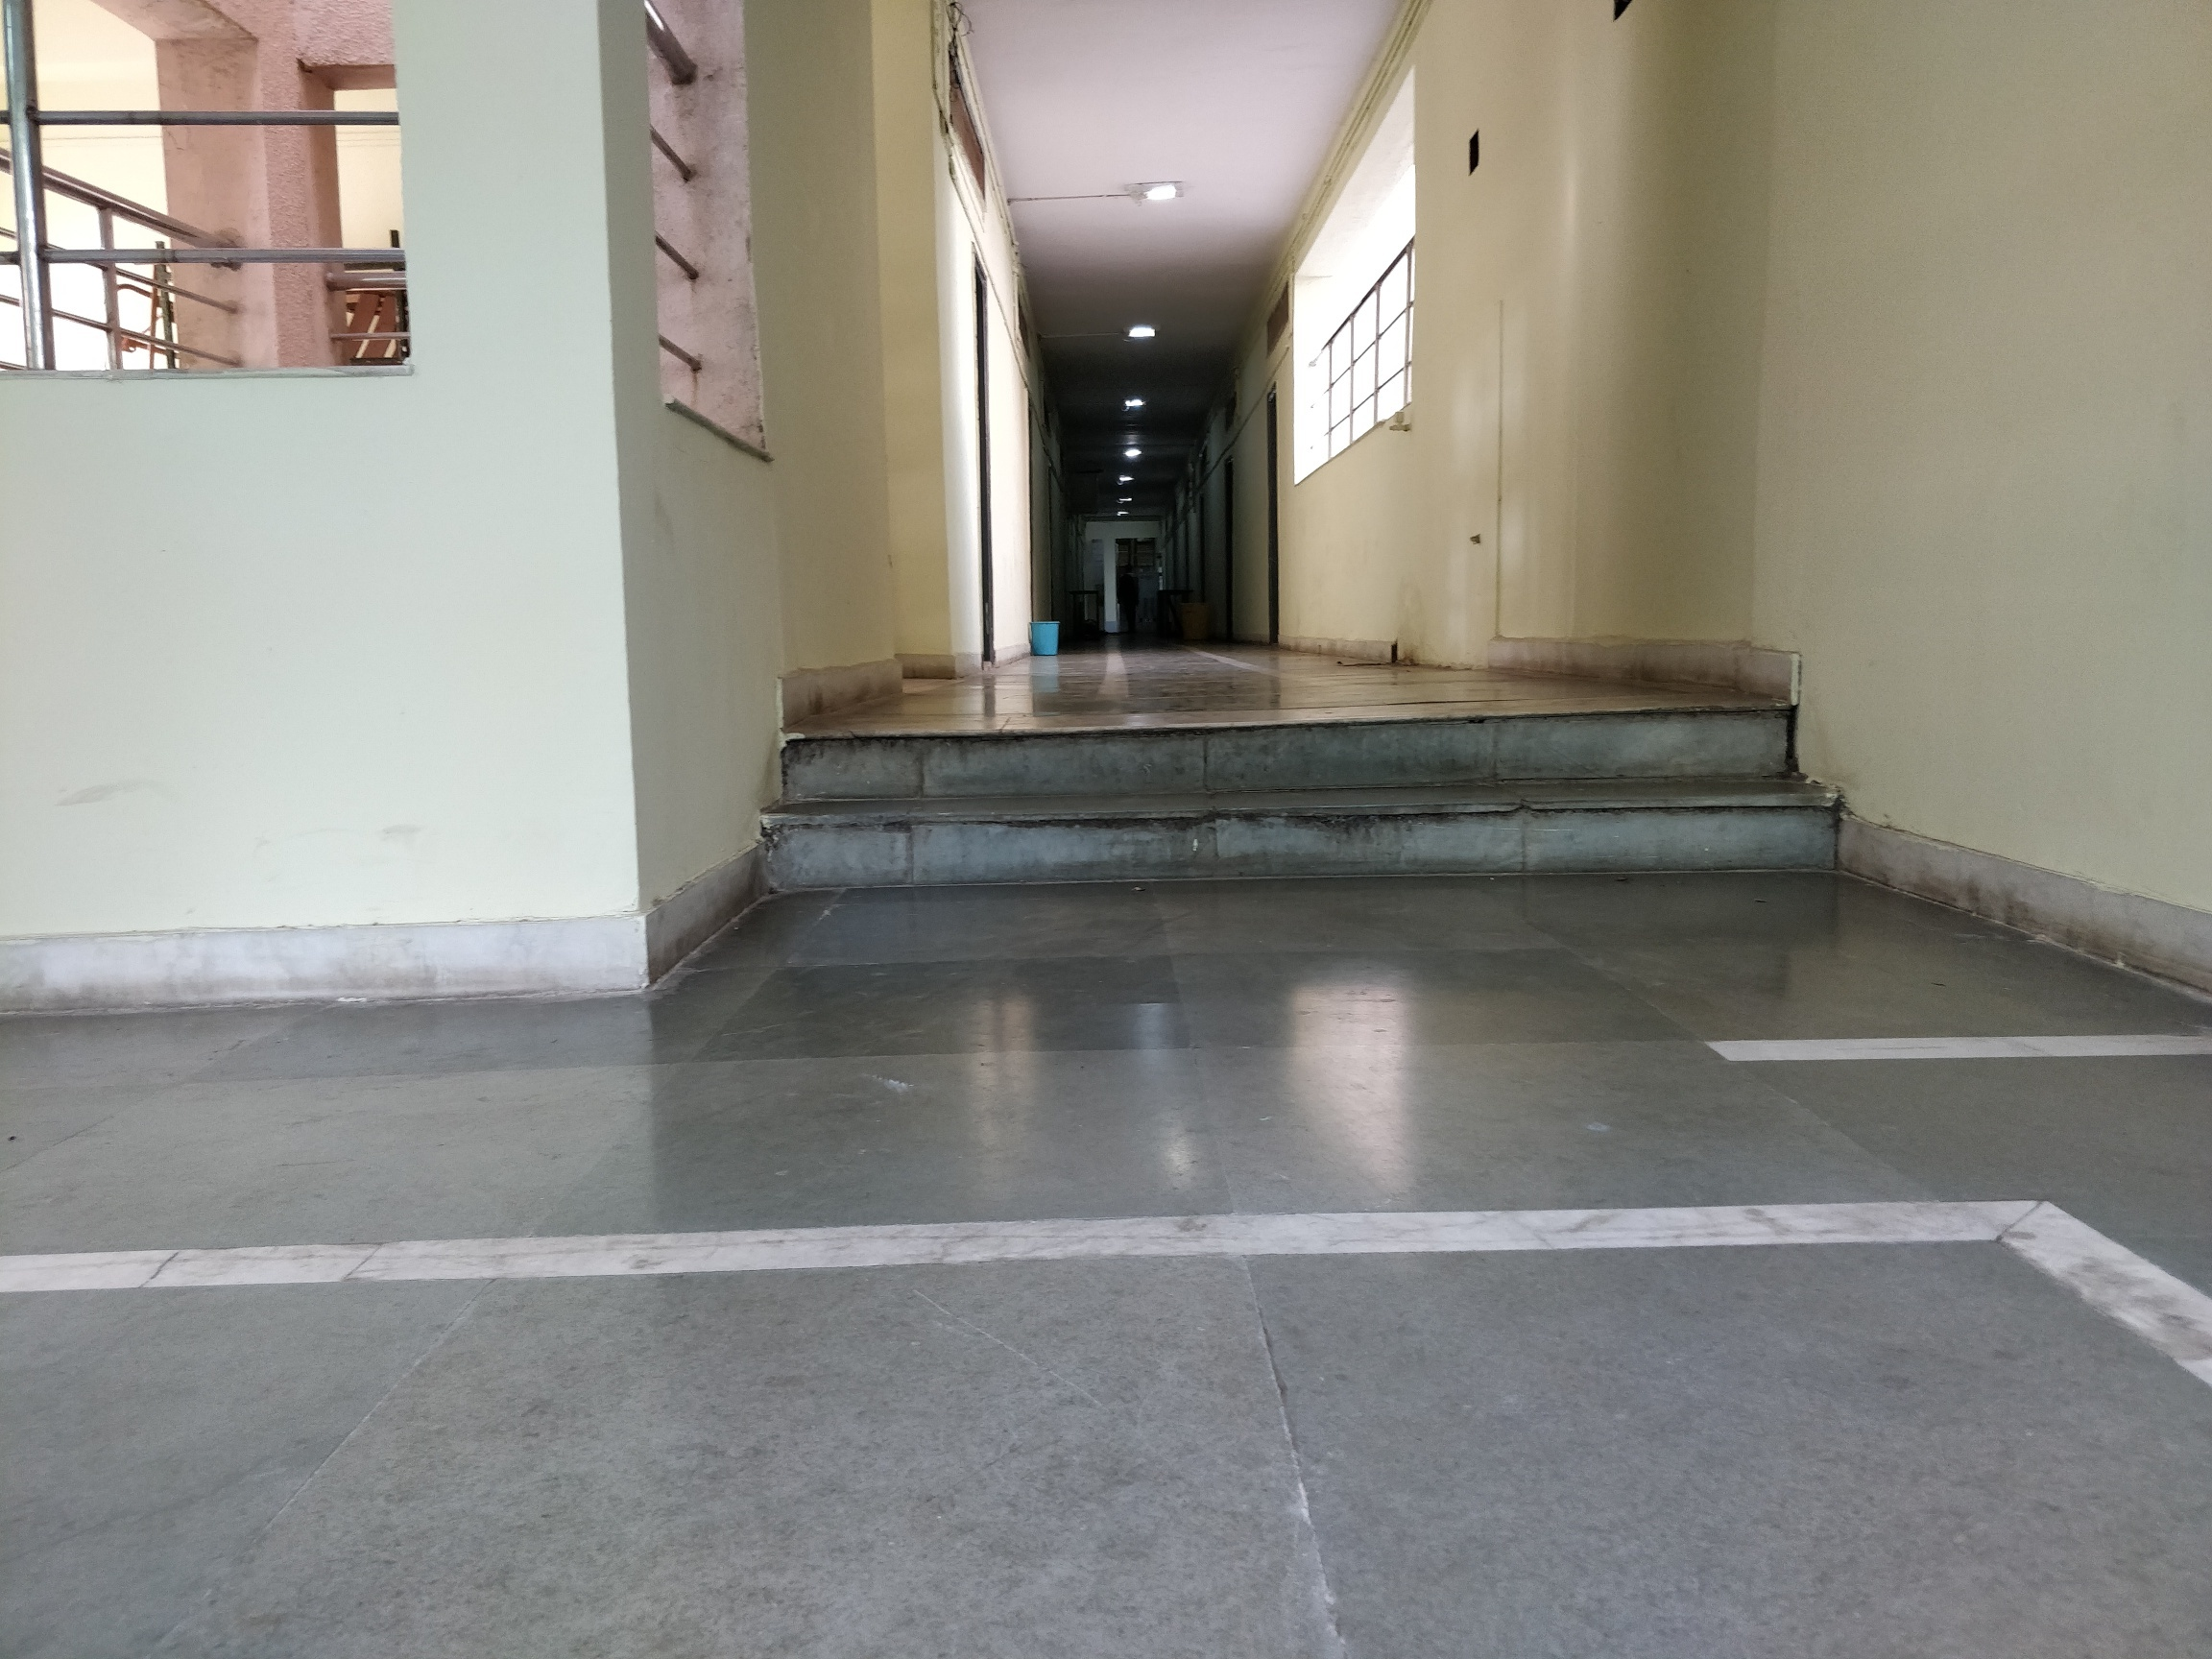stairs_up: (742, 704, 1853, 910)
